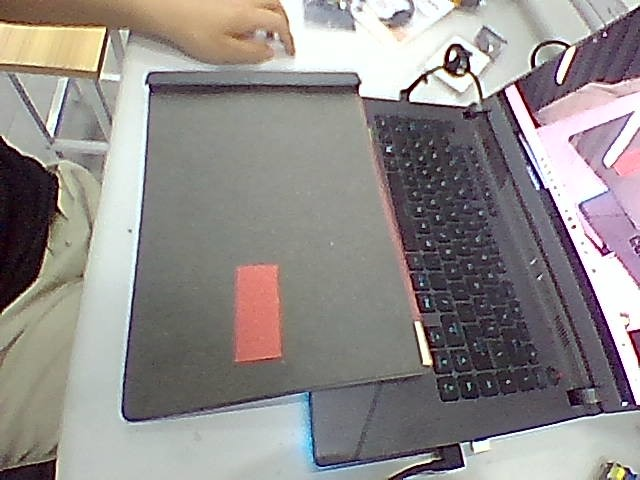card: (235, 265, 280, 361)
